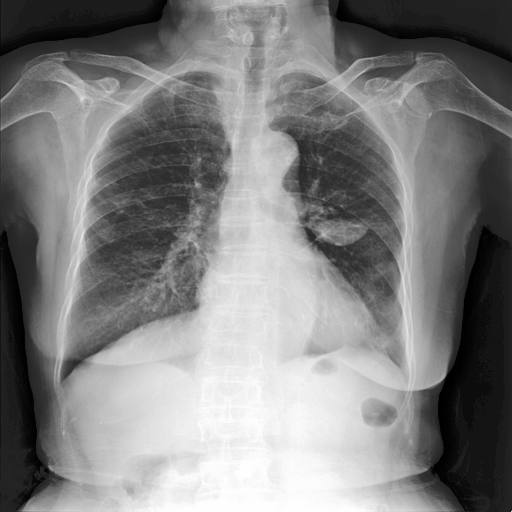Aortic enlargement: (309, 218, 369, 245)
Calcification: (337, 343, 356, 353)
Consolidation: (250, 127, 298, 180)
Other lesion: (312, 217, 372, 248)
Pleural thickening: (313, 220, 371, 244)
Pneumothorax: (86, 178, 152, 213)
Pulmonary fibrosis: (313, 220, 371, 244), (370, 334, 392, 349)
